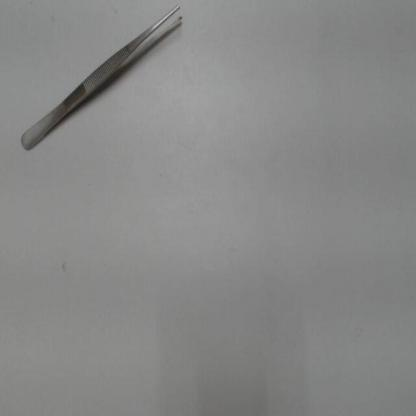Gillies Toothed Dissector: (13, 1, 214, 157)
